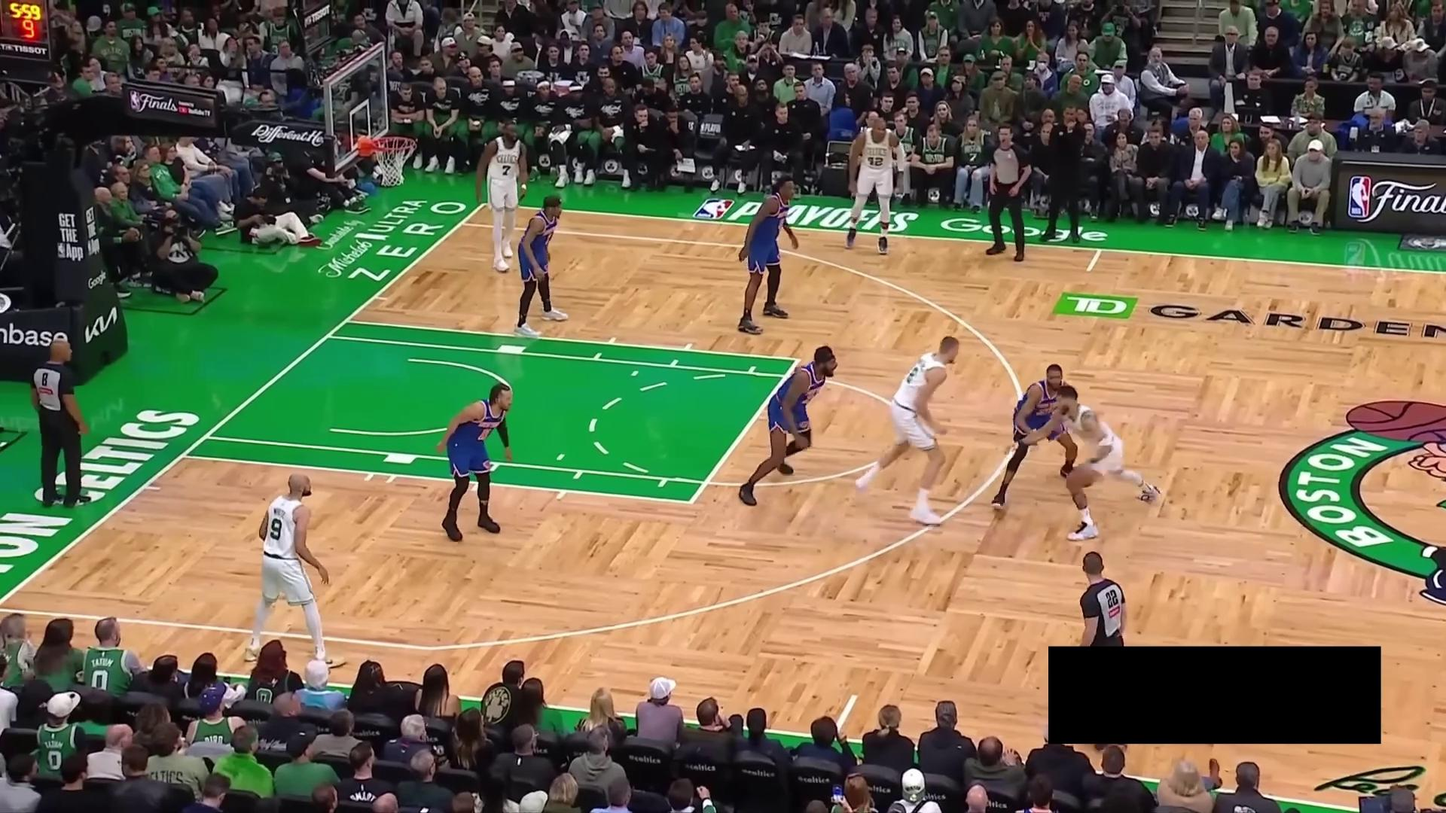ball: (1073, 462, 1094, 488)
number: (268, 518, 283, 543), (477, 426, 492, 442), (907, 366, 919, 383), (866, 156, 884, 166), (502, 163, 511, 176)
player: (850, 330, 965, 529), (239, 471, 348, 673), (735, 343, 839, 509), (431, 379, 517, 545), (986, 361, 1079, 514), (734, 171, 802, 337), (473, 115, 529, 276), (513, 194, 573, 341), (843, 116, 906, 256)
player-in-possession: (1001, 382, 1164, 543)
referee: (1042, 546, 1134, 753), (27, 333, 95, 512), (982, 119, 1034, 264)
rim: (370, 133, 416, 154)
